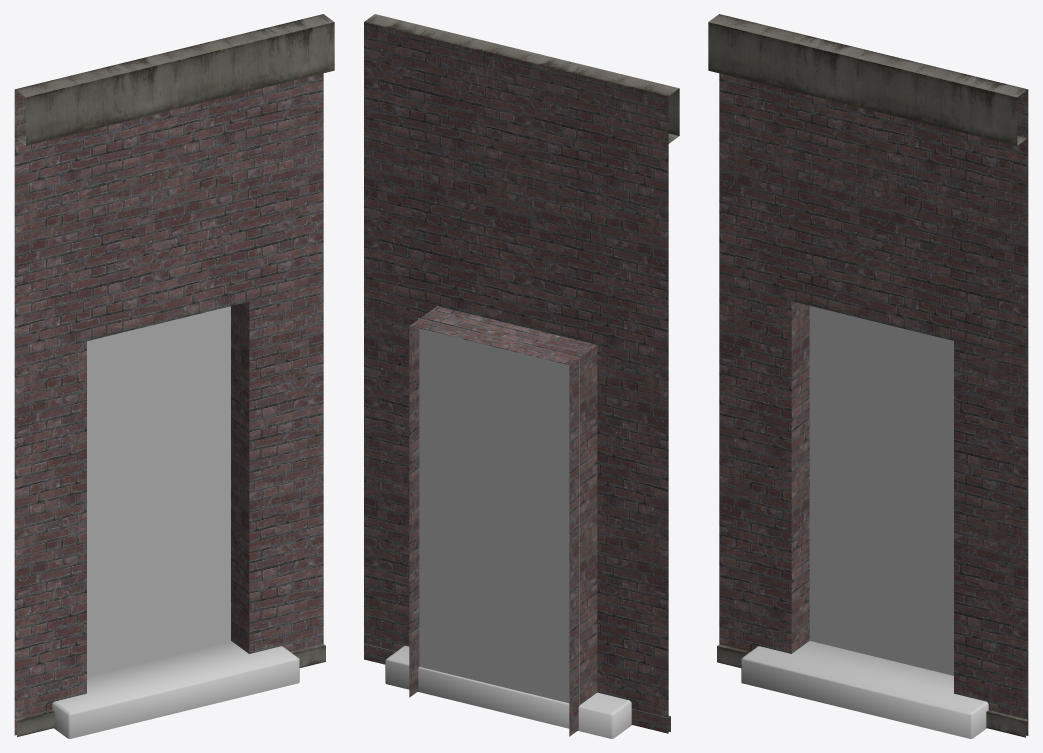
File: Wall_D_Brick_Door_E_2x.FBX
3 views of the same model, side by side, from view 1: azimuth 30°, elevation 25°; view 2: azimuth 150°, elevation 25°; view 3: azimuth 330°, elevation 25° (orthographic).
Parts seen in each view (by area): view 1: Wall_D_Brick_Door_E_2x; view 2: Wall_D_Brick_Door_E_2x; view 3: Wall_D_Brick_Door_E_2x.
Boxes of the visible parts, <box> form: Wall_D_Brick_Door_E_2x: <box>14,14,334,738</box>; Wall_D_Brick_Door_E_2x: <box>364,14,679,738</box>; Wall_D_Brick_Door_E_2x: <box>708,14,1028,738</box>.
Size of the model in its own units: 200 by 401 by 50.51.
